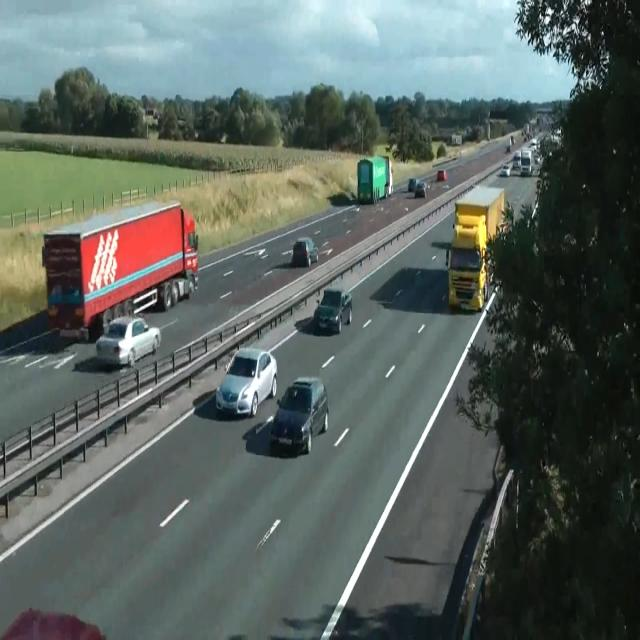bus: (95, 315, 161, 367), (1, 607, 107, 639), (313, 287, 352, 334), (292, 236, 318, 268), (414, 180, 426, 198), (500, 163, 510, 177), (437, 169, 447, 181), (408, 178, 416, 192), (442, 184, 449, 190), (506, 144, 510, 152)
jeep: (269, 375, 329, 454), (215, 346, 277, 418)
minibus: (41, 199, 199, 342), (446, 185, 508, 312), (357, 154, 393, 204), (520, 148, 532, 175), (452, 133, 462, 146)
